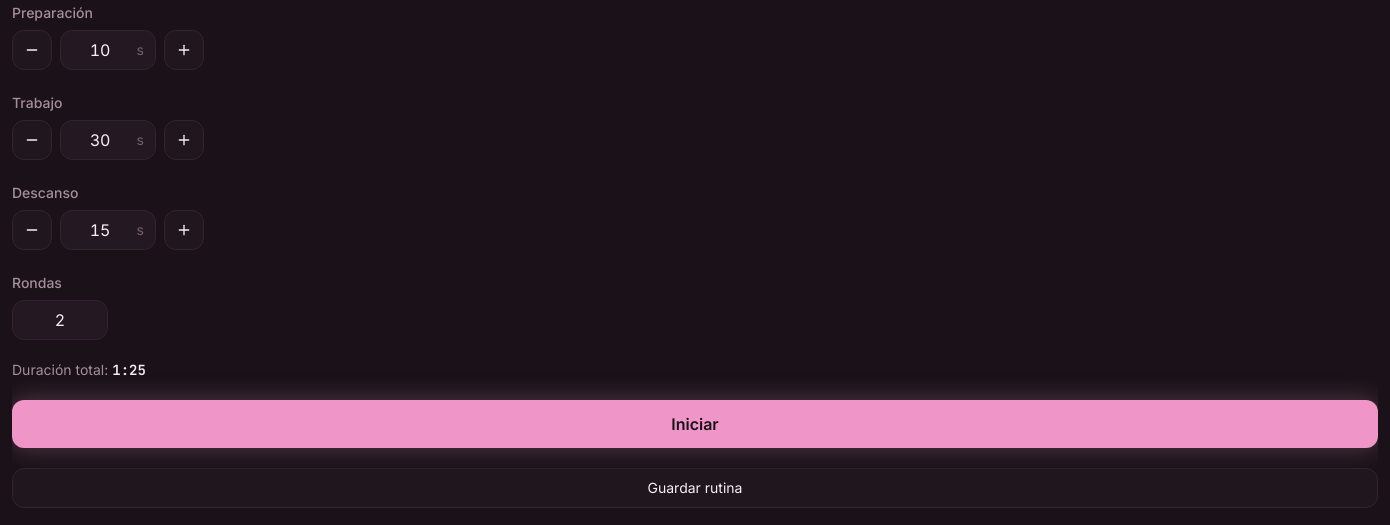
ClasicoConfigScreen — resumen de duración total (compilePlan) › con valores inválidos el resumen no muestra un total
Replace the text in the field labelled "Trabajo" with "abc": (108, 140) [60,120,156,160]
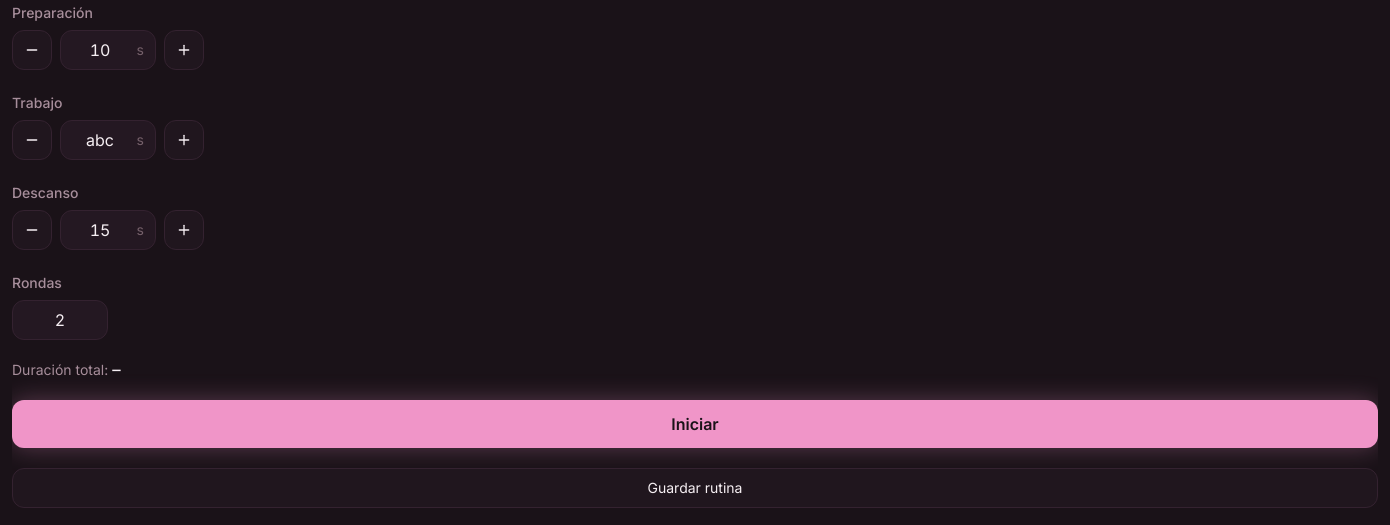
Now the text with test id "total-sesion" reads "—", box [112,361,121,379]
